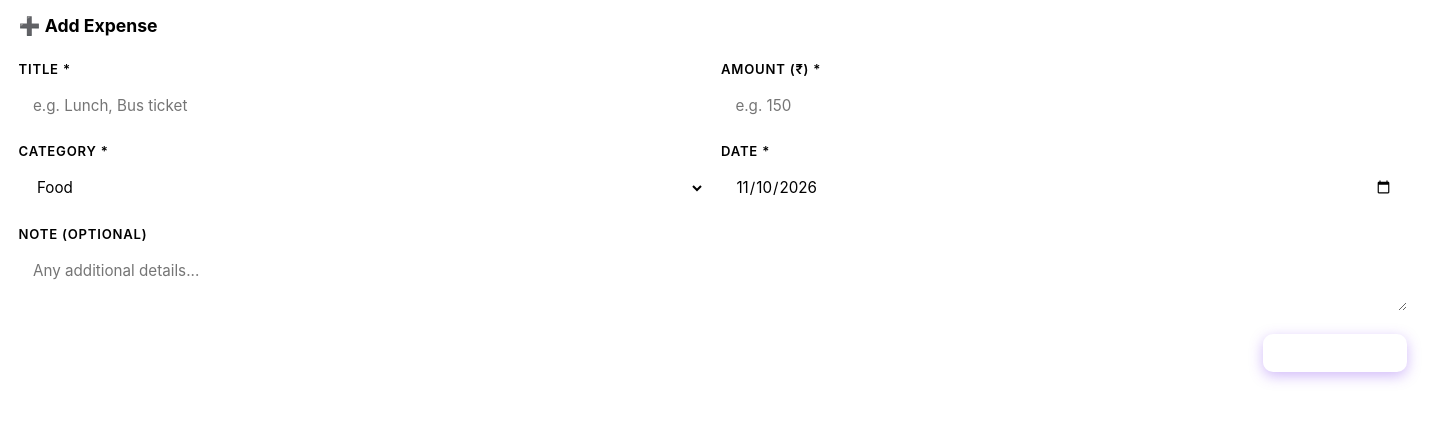
Test: ExpenseForm — validation › shows amount error when amount is zero or negative
The width and height of the screenshot is (1431, 428).
Type "Coffee" into the field with placeholder "e.g. Lunch, Bus ticket" at (362, 105), box [19,86,705,124]
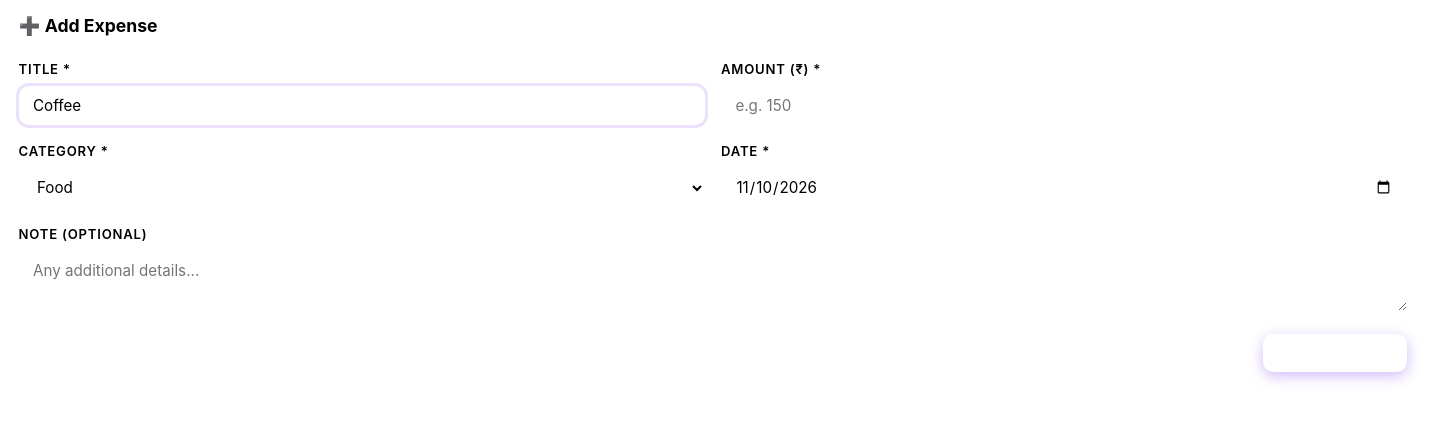
Type "-5" into the number field with placeholder "e.g. 150" at (1064, 105), box [721,86,1407,124]
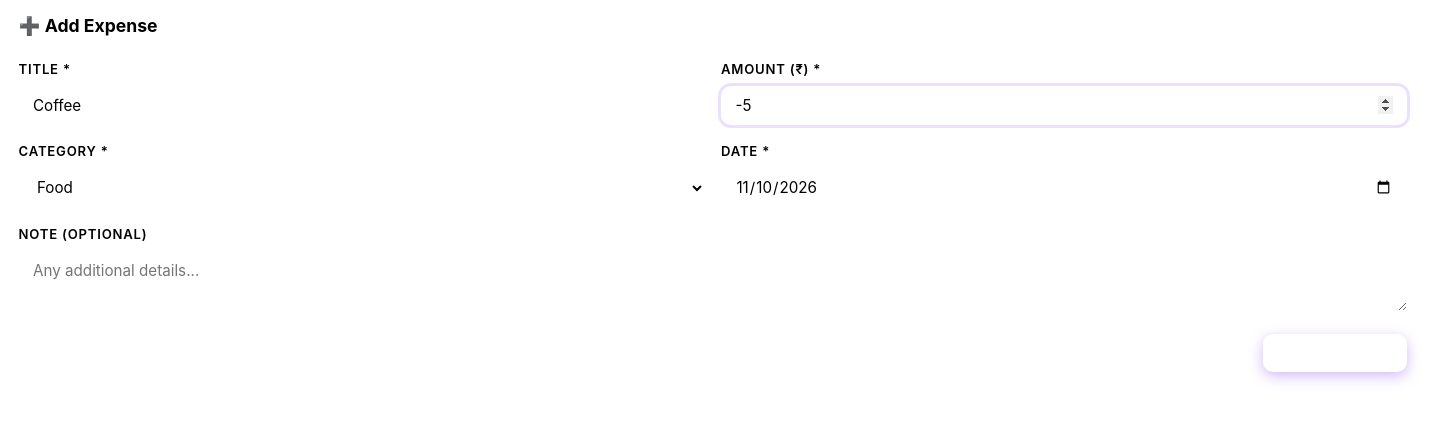
Click the button "Add Expense" at (1335, 353), box [1263,334,1407,372]
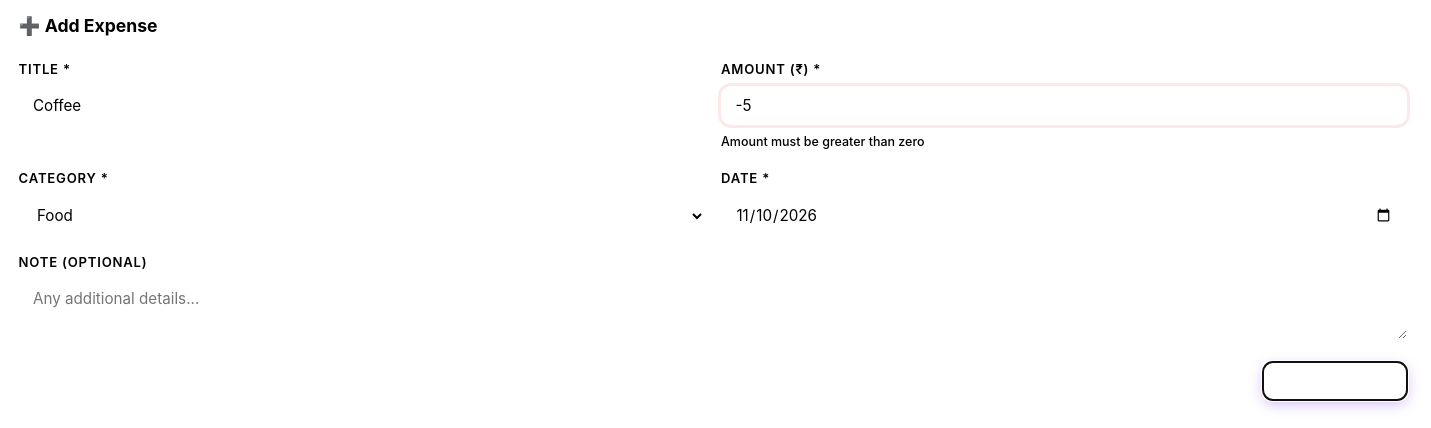
Expected: the text "Amount must be greater than zero" is shown, [721,134,924,150]
